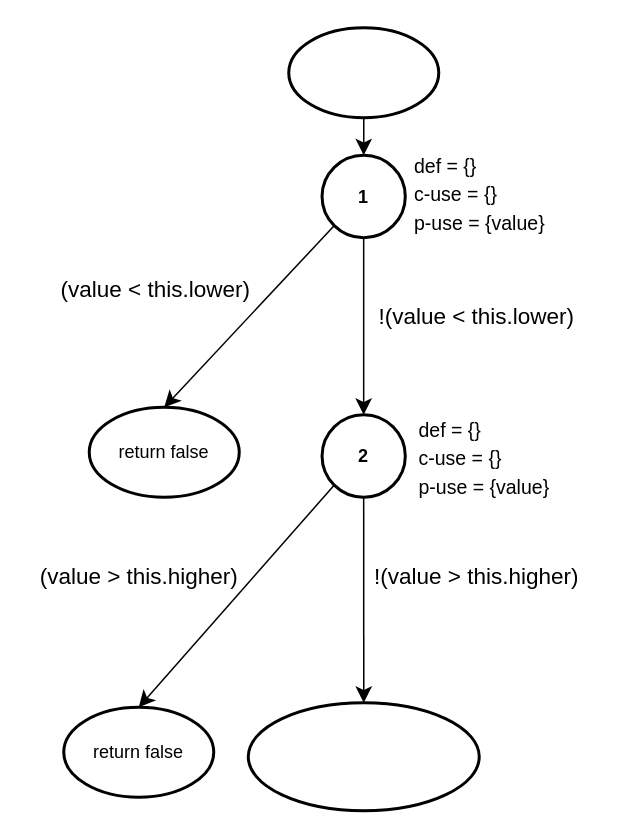
Image size: 635x837. Some labels were removed from this diagram. The shapes that lost their labels are listed below. From the top down, each one's centre as x and y in pixels, then its label:
At (x=363, y=72): "Start".
At (x=363, y=756): "return value >= this.lower && value <= this.upper".
